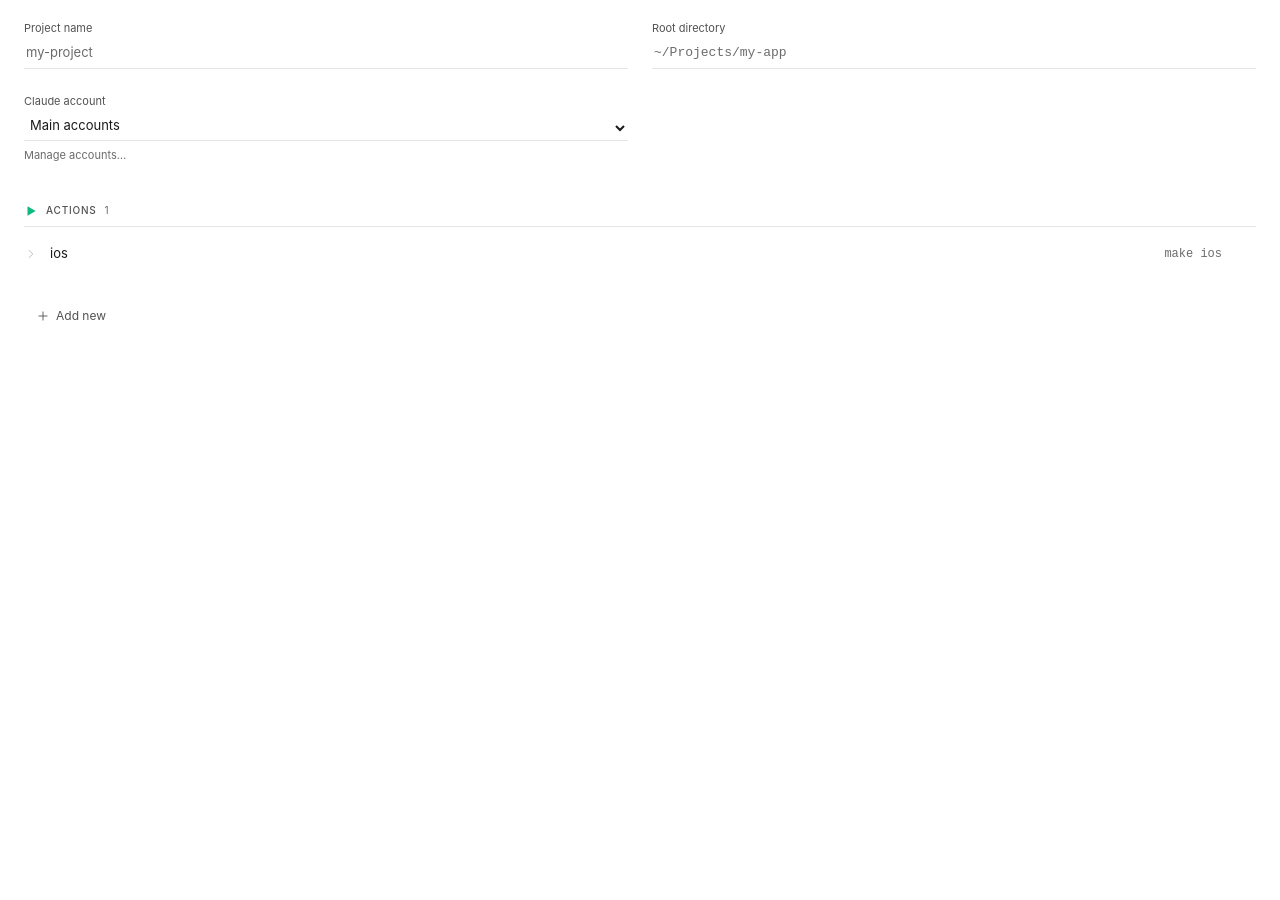
Test case: VisualConfigEditor › Display › keeps the legacy menu option for a menu button
Click the button "ios make ios". click: (1193, 254)
box: [24, 244, 1222, 264]
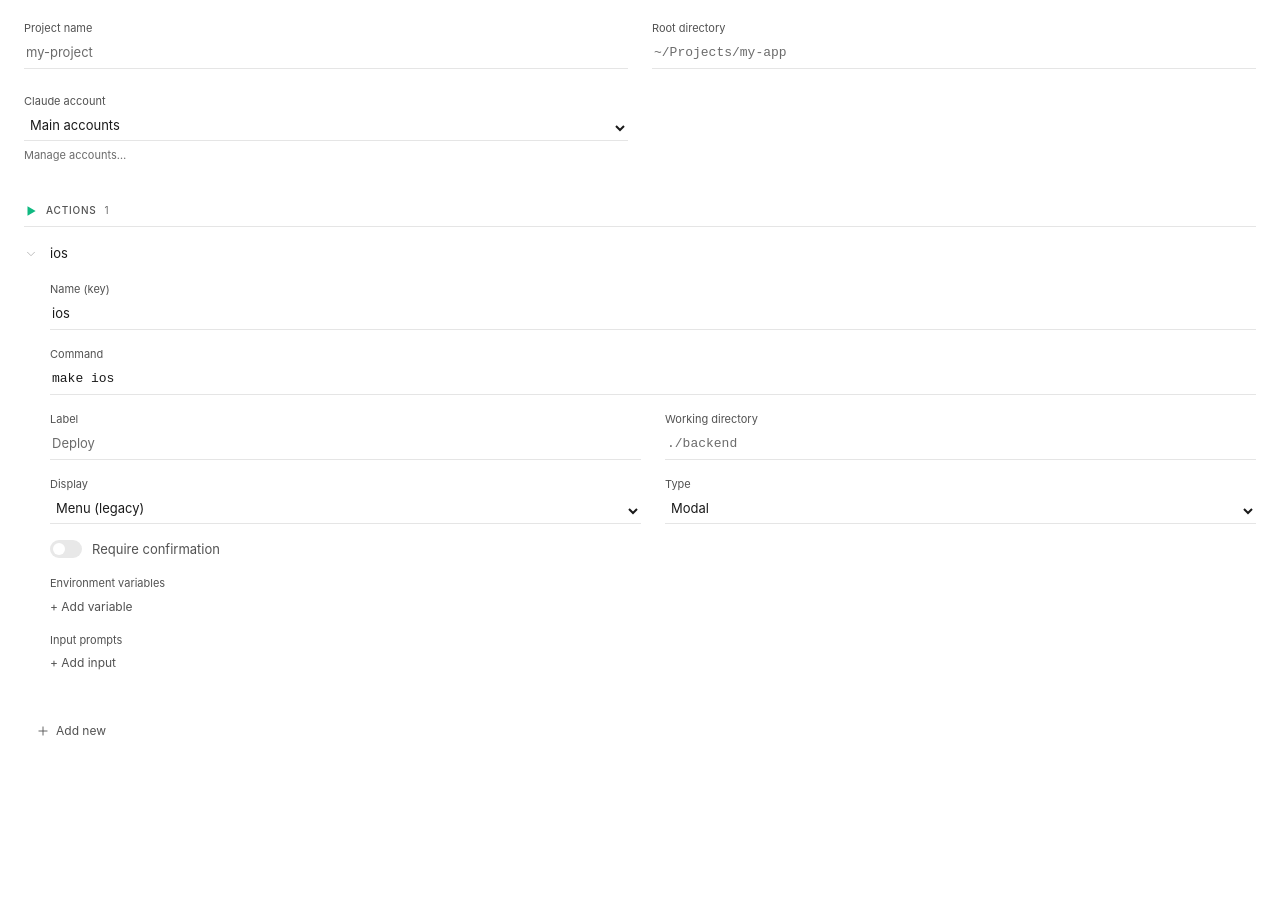
Now the dropdown labelled "Display" shows "Menu (legacy)", box [50, 498, 641, 524]
